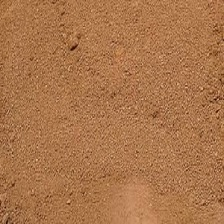clay_soil: (7, 23, 217, 205)
